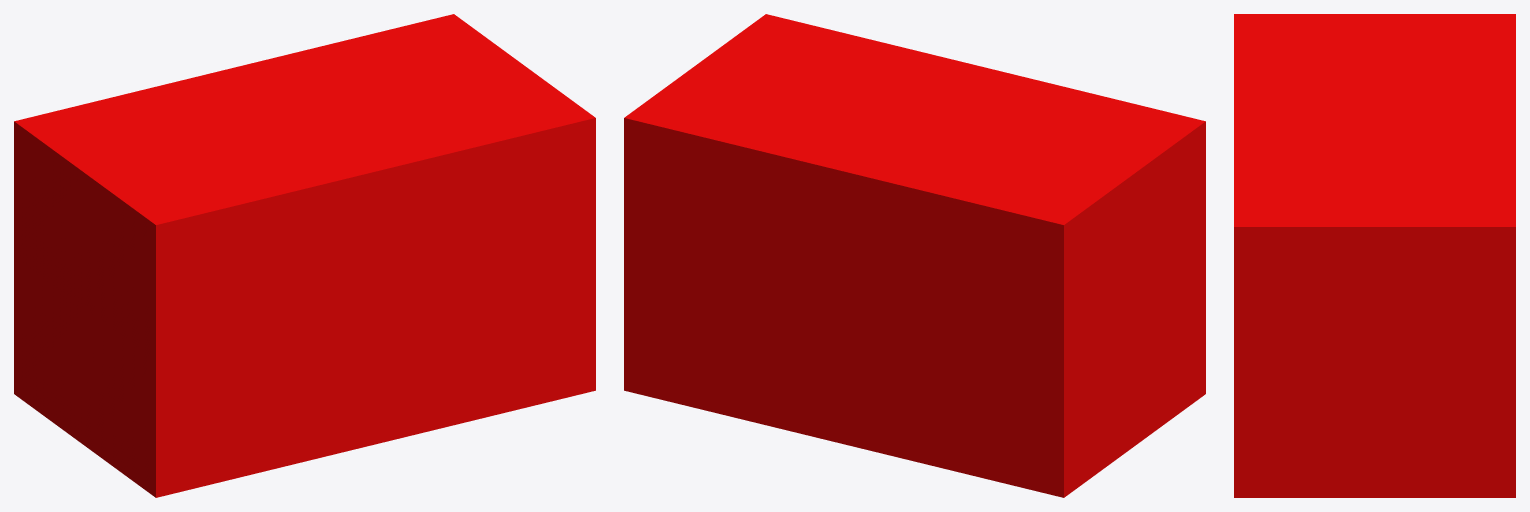
The model's file is little_distal_lvs_col.dae.
3 views of the same model, side by side, from view 1: azimuth 30°, elevation 25°; view 2: azimuth 150°, elevation 25°; view 3: azimuth 270°, elevation 25° (orthographic).
Visible parts, largest first — view 1: node0; view 2: node0; view 3: node0.
Boxes of the visible parts, bbox=[...] form: node0: bbox=[14, 14, 595, 497]; node0: bbox=[624, 14, 1205, 497]; node0: bbox=[1234, 14, 1515, 497].
Size of the model in its own units: 0.0157 by 0.0093 by 0.00877.
